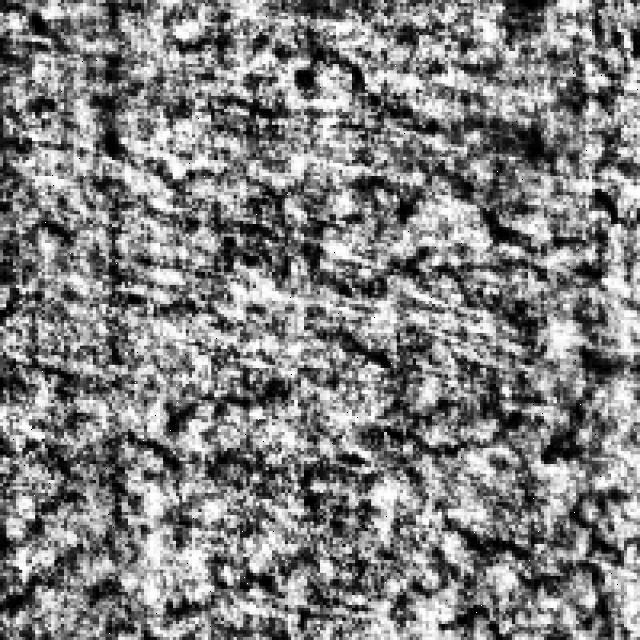Pitted_Surface: (115, 26, 640, 397), (90, 378, 630, 636)
